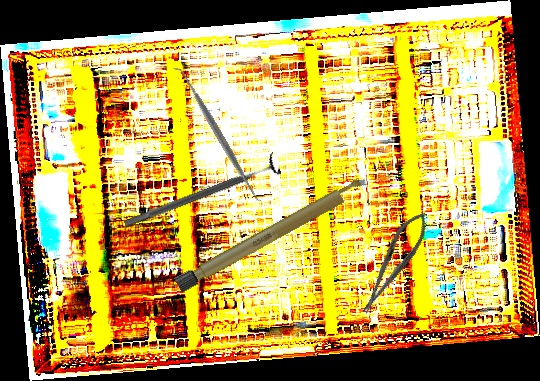Fixation Ring: (119, 150, 283, 237)
Needle Holder: (351, 205, 437, 320)
Scalpel Handle: (174, 174, 371, 294)
Spatula Surgical: (170, 61, 266, 207)
